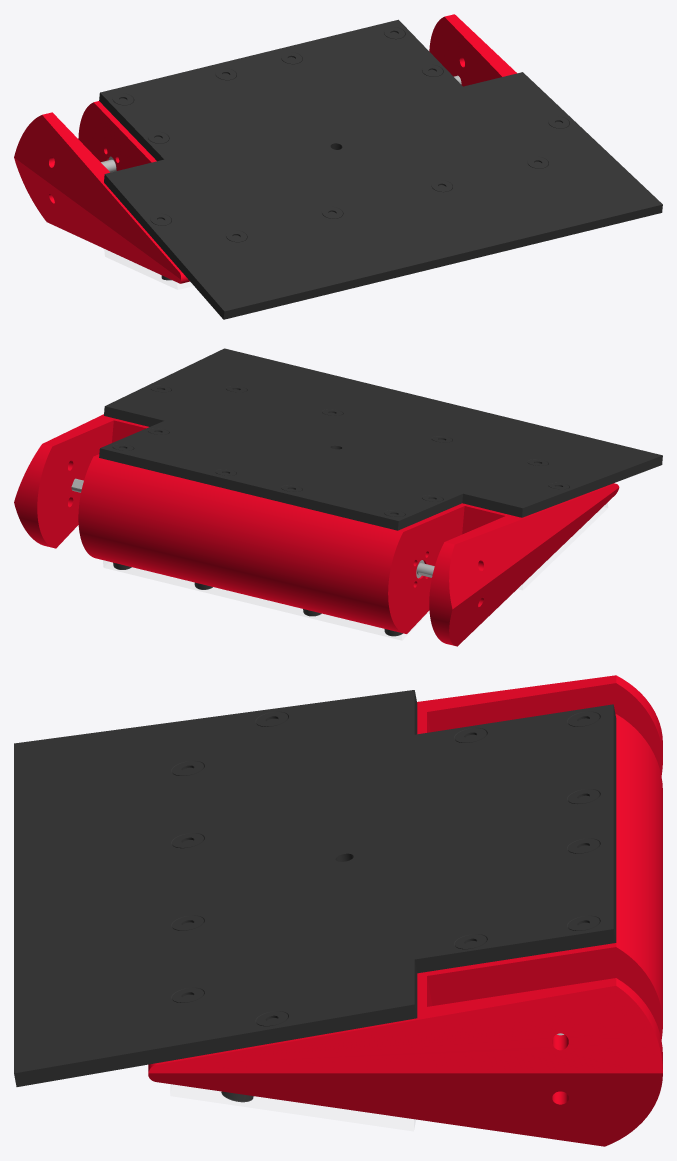
File: Mr Stabs Mk2 Chassis.fbx
3 renders of one model, top to bottom at view 1: azimuth 30°, elevation 25°; view 2: azimuth 150°, elevation 25°; view 3: azimuth 270°, elevation 25°, orthographic. The views are drawn at different scales.
Parts seen in each view (by area): view 1: Unity Chassis Model; view 2: Unity Chassis Model; view 3: Unity Chassis Model.
Boxes of the visible parts, x1=… form: Unity Chassis Model: x1=14, y1=14, x2=662, y2=319; Unity Chassis Model: x1=14, y1=348, x2=662, y2=646; Unity Chassis Model: x1=14, y1=675, x2=662, y2=1146.
Bounding box in the file's own units: 16 × 4.26 × 13.3.
